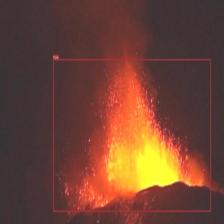fire: (53, 59, 211, 212)
